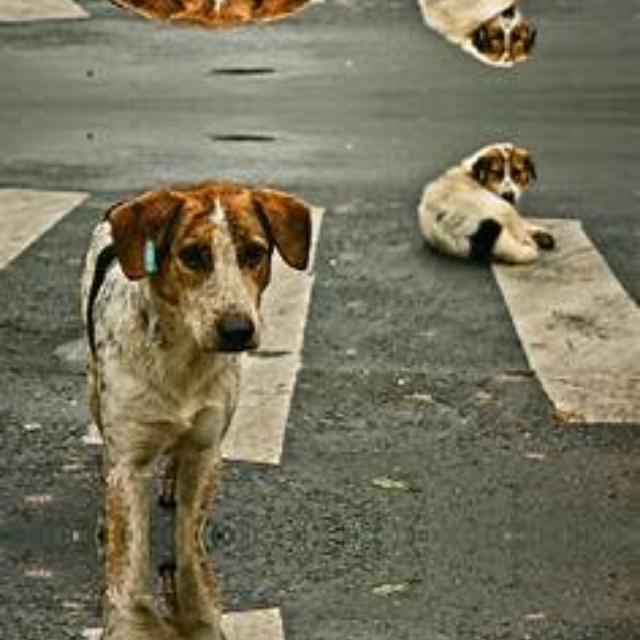dog: (56, 140, 310, 506), (386, 121, 556, 296), (56, 565, 309, 640), (56, 0, 309, 68), (385, 0, 556, 86)
